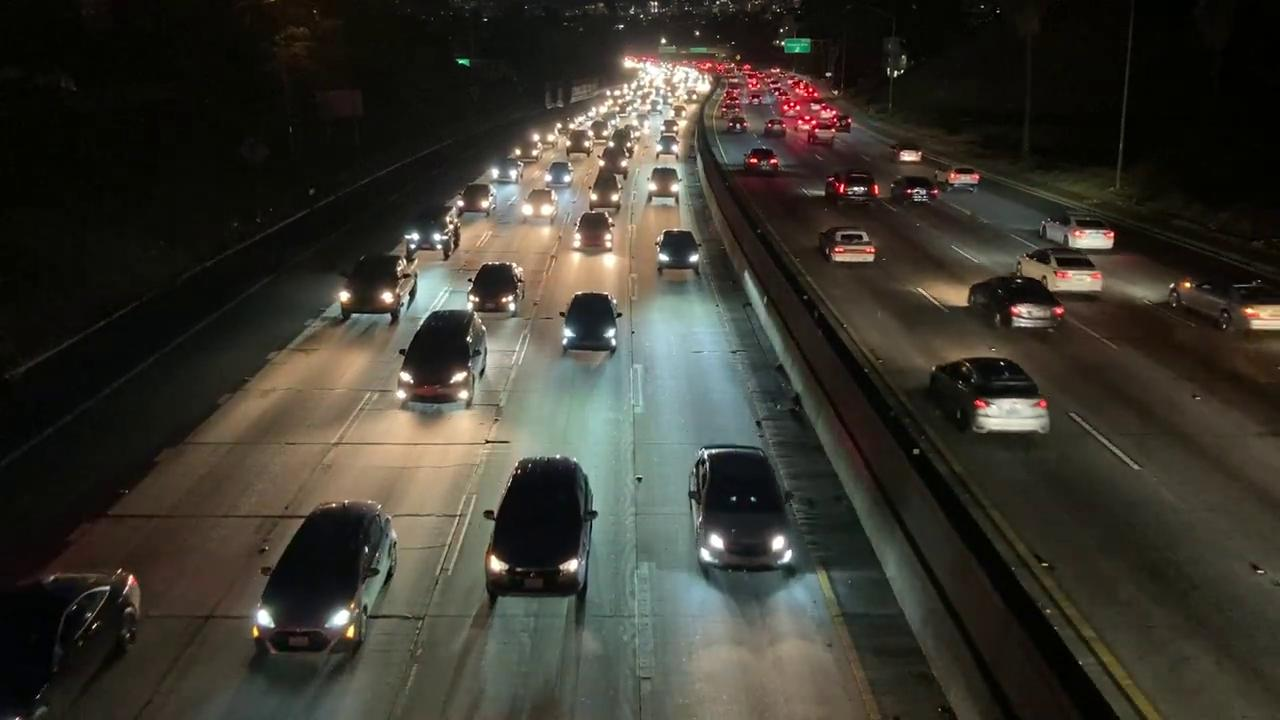car: (249, 495, 399, 655), (18, 550, 147, 720), (690, 437, 807, 585), (482, 456, 605, 595), (400, 305, 494, 411), (927, 356, 1048, 437), (1169, 264, 1279, 340), (336, 249, 427, 316), (967, 277, 1068, 333), (553, 288, 629, 358), (1012, 248, 1104, 296), (401, 202, 465, 256), (466, 263, 530, 316), (650, 223, 702, 273), (885, 172, 943, 208), (819, 231, 877, 264), (461, 177, 504, 220), (1063, 218, 1118, 250), (540, 158, 579, 201), (638, 166, 685, 200), (575, 213, 617, 251), (520, 184, 562, 222), (588, 174, 626, 212), (880, 138, 927, 166), (828, 173, 875, 199), (596, 145, 632, 175), (801, 118, 840, 143), (743, 147, 781, 172), (566, 126, 594, 157), (497, 151, 521, 187), (944, 168, 981, 191), (757, 116, 790, 140), (722, 111, 750, 138)
